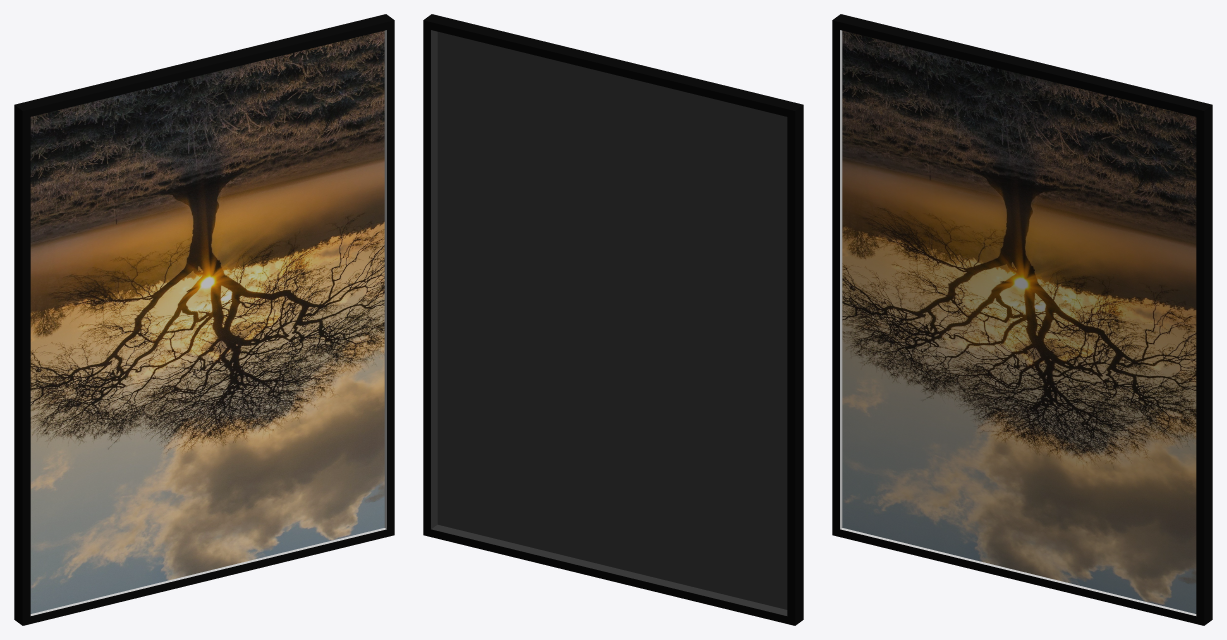
File: frame_2.gltf
3 views of the same model, side by side, from view 1: azimuth 30°, elevation 25°; view 2: azimuth 150°, elevation 25°; view 3: azimuth 330°, elevation 25° (orthographic).
Visible parts, largest first — view 1: Material3 (×2), Material2; view 2: Material3, Material2; view 3: Material3 (×2), Material2.
Part boxes in pixels (x1,y1,x2,y2): Material3 (×2): (30, 30, 386, 615); Material2: (14, 14, 394, 625); Material3: (431, 30, 787, 615); Material2: (423, 14, 803, 625); Material3 (×2): (840, 30, 1196, 615); Material2: (832, 14, 1212, 625).
Size of what is drawn, in the model's own units: 24.95 by 33 by 1.
Materials: 4 (1 with a texture image).
